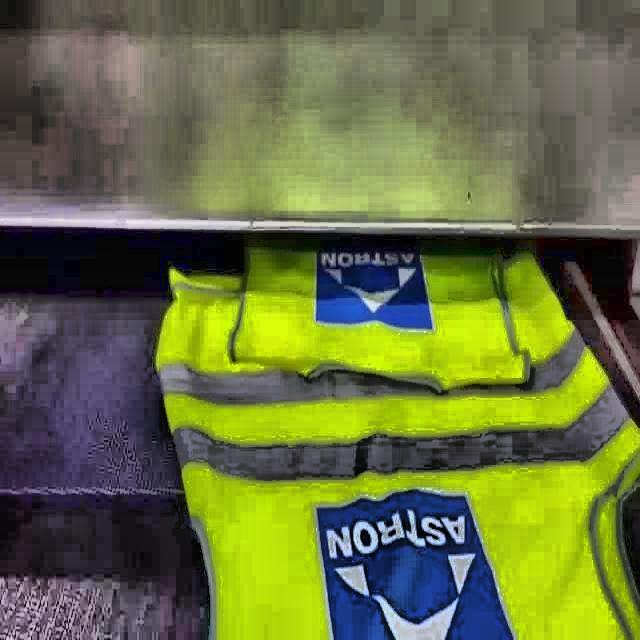safety_jacket: (155, 254, 640, 640)
